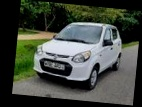car: (29, 17, 124, 94)
